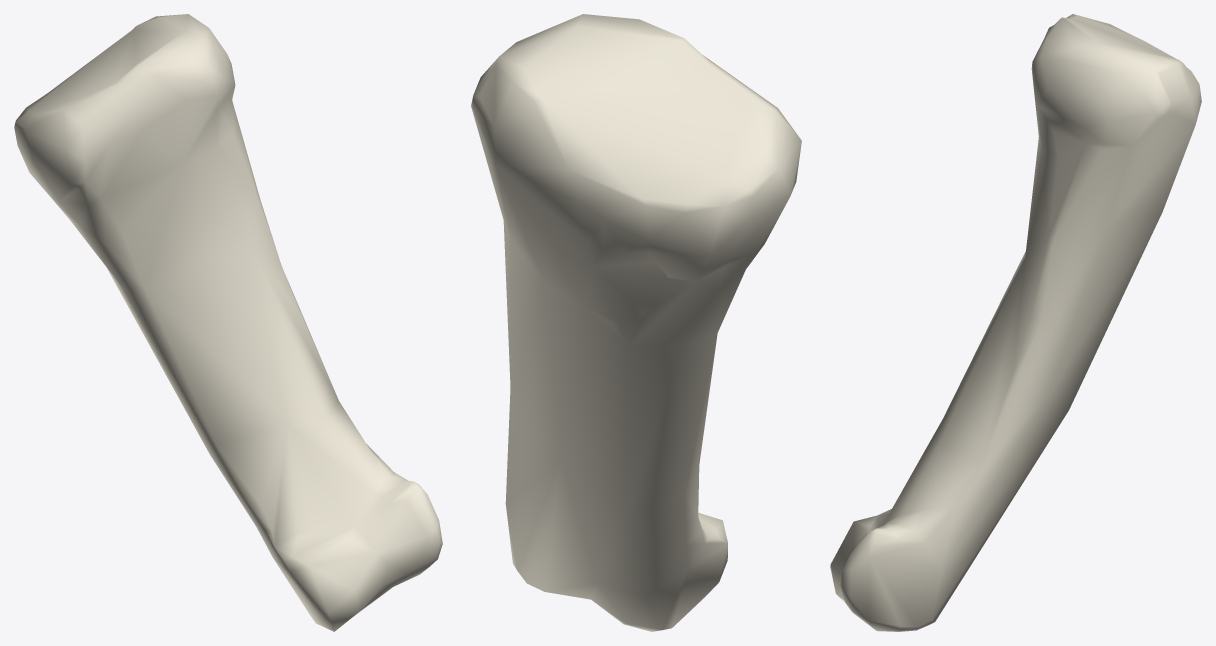
The picture shows the model from 3 angles, left to right: view 1: azimuth 30°, elevation 25°; view 2: azimuth 150°, elevation 25°; view 3: azimuth 270°, elevation 25°; orthographic projection. The views are drawn at different scales.
Parts seen in each view (by area): view 1: ZA_c36d7bb09a02c110; view 2: ZA_c36d7bb09a02c110; view 3: ZA_c36d7bb09a02c110.
Boxes of the visible parts, box(x1,y1,x2,y2) form: ZA_c36d7bb09a02c110: box(14, 14, 442, 631); ZA_c36d7bb09a02c110: box(471, 14, 801, 631); ZA_c36d7bb09a02c110: box(830, 14, 1201, 631).
Bounding box in the file's own units: 0.0227 × 0.0389 × 0.0237.
